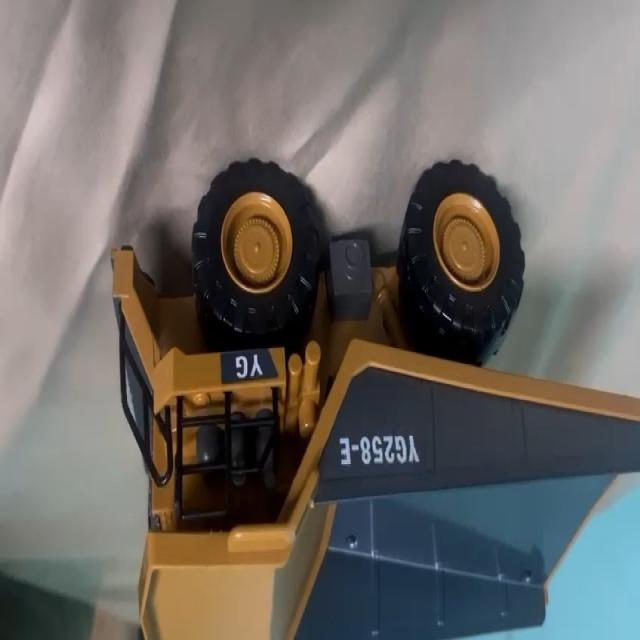dump_truck: (90, 159, 640, 639)
